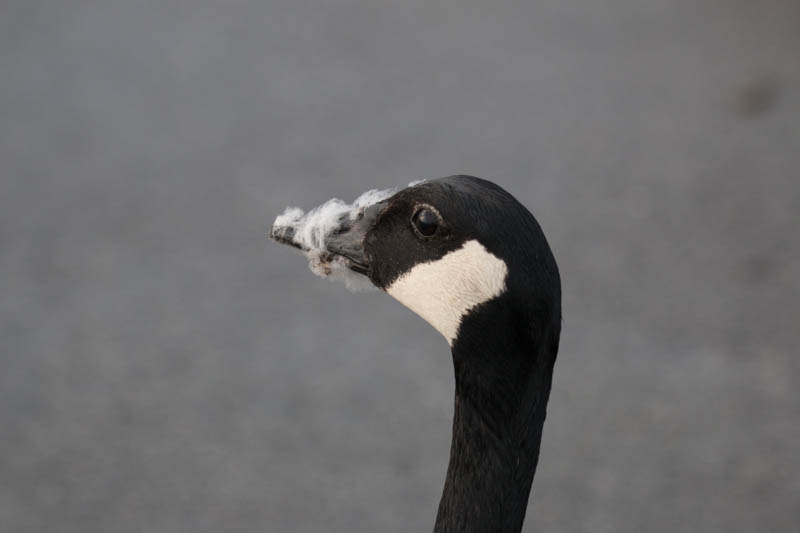goose-head: (266, 175, 562, 357)
